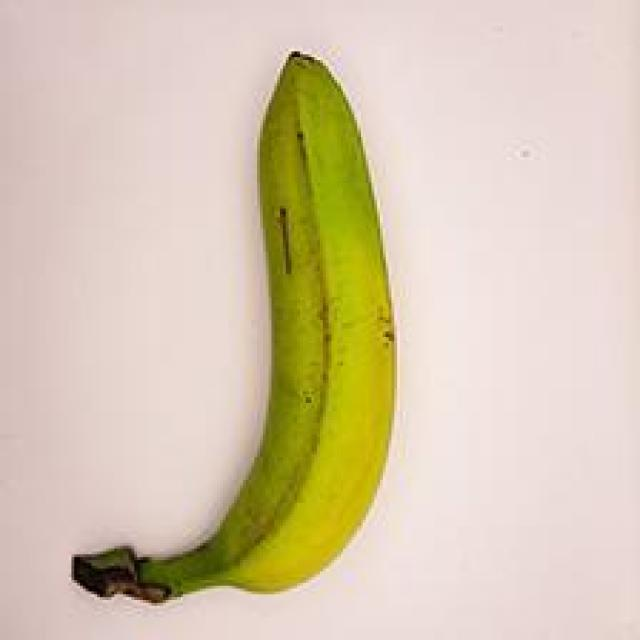Unripe: (45, 36, 427, 618)
